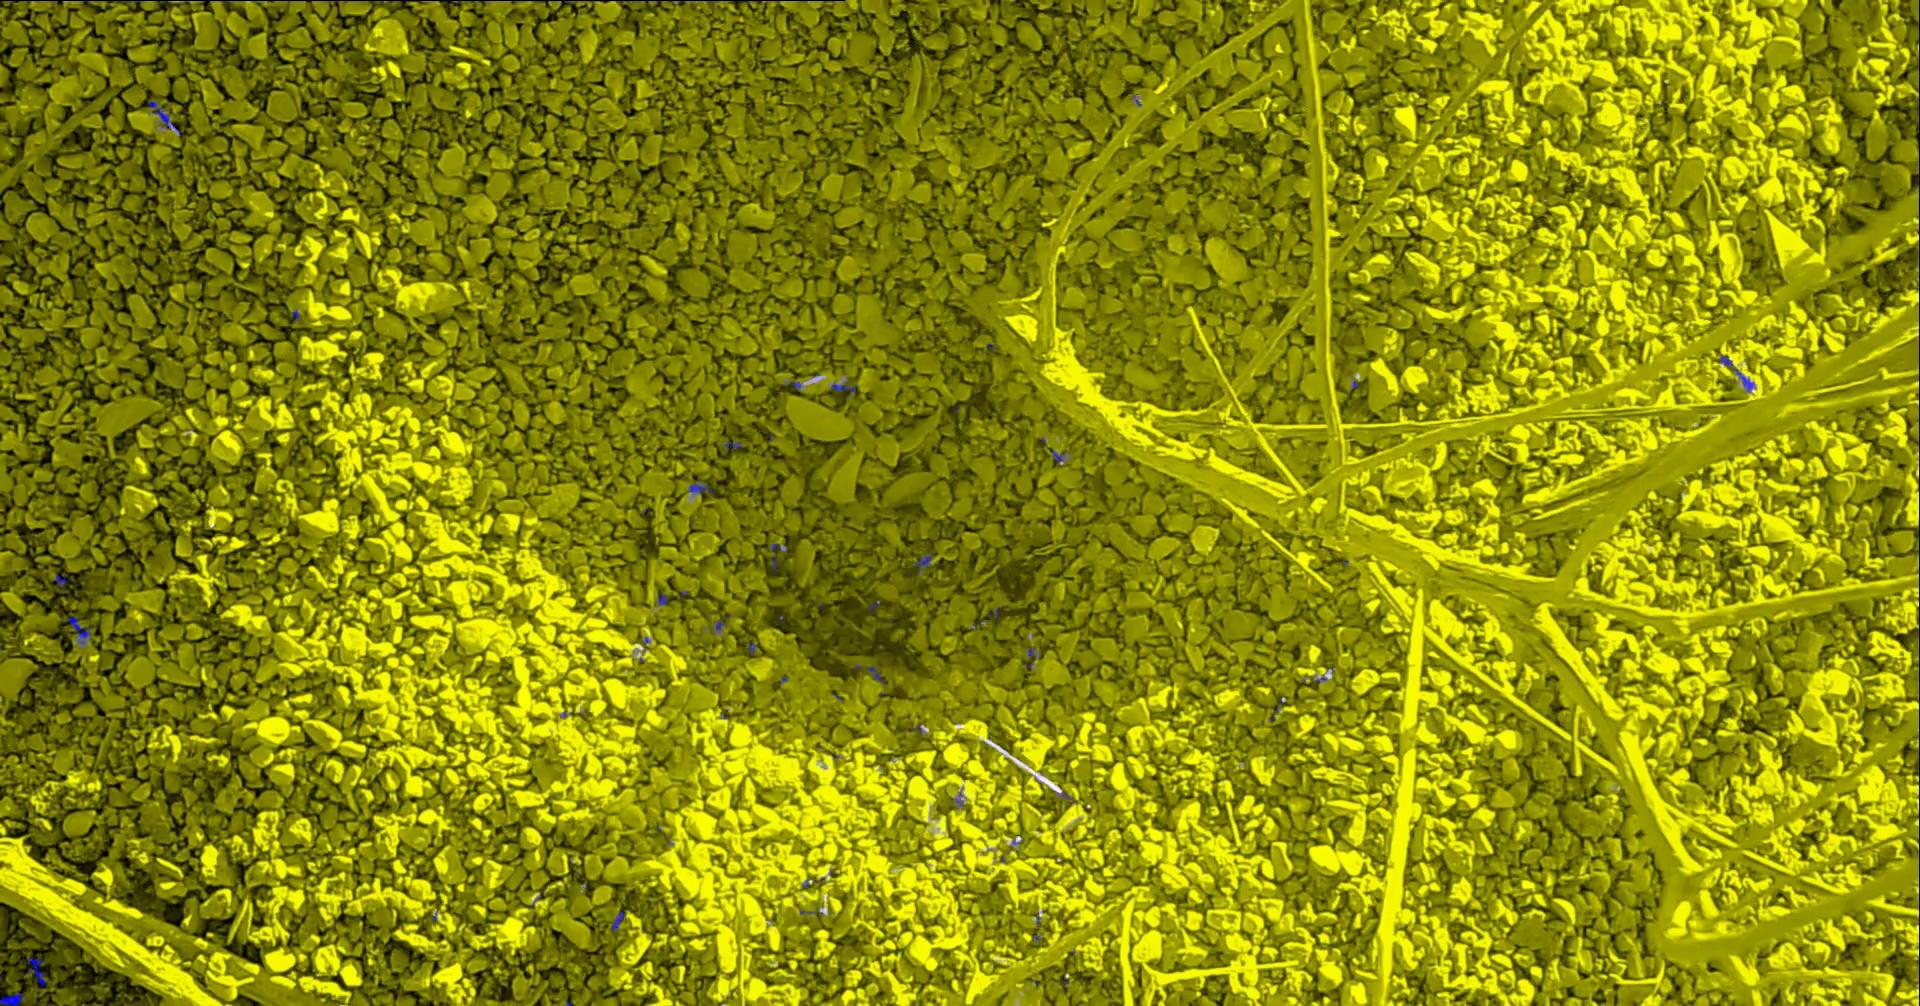ant: (1719, 354, 1752, 391), (147, 100, 179, 133), (67, 615, 90, 644), (27, 956, 46, 984), (770, 542, 785, 572), (913, 553, 931, 575), (867, 666, 886, 683), (687, 481, 712, 494), (830, 380, 855, 392), (0, 991, 22, 1005), (610, 911, 625, 930), (53, 572, 66, 586), (723, 441, 742, 448), (657, 593, 667, 605)
